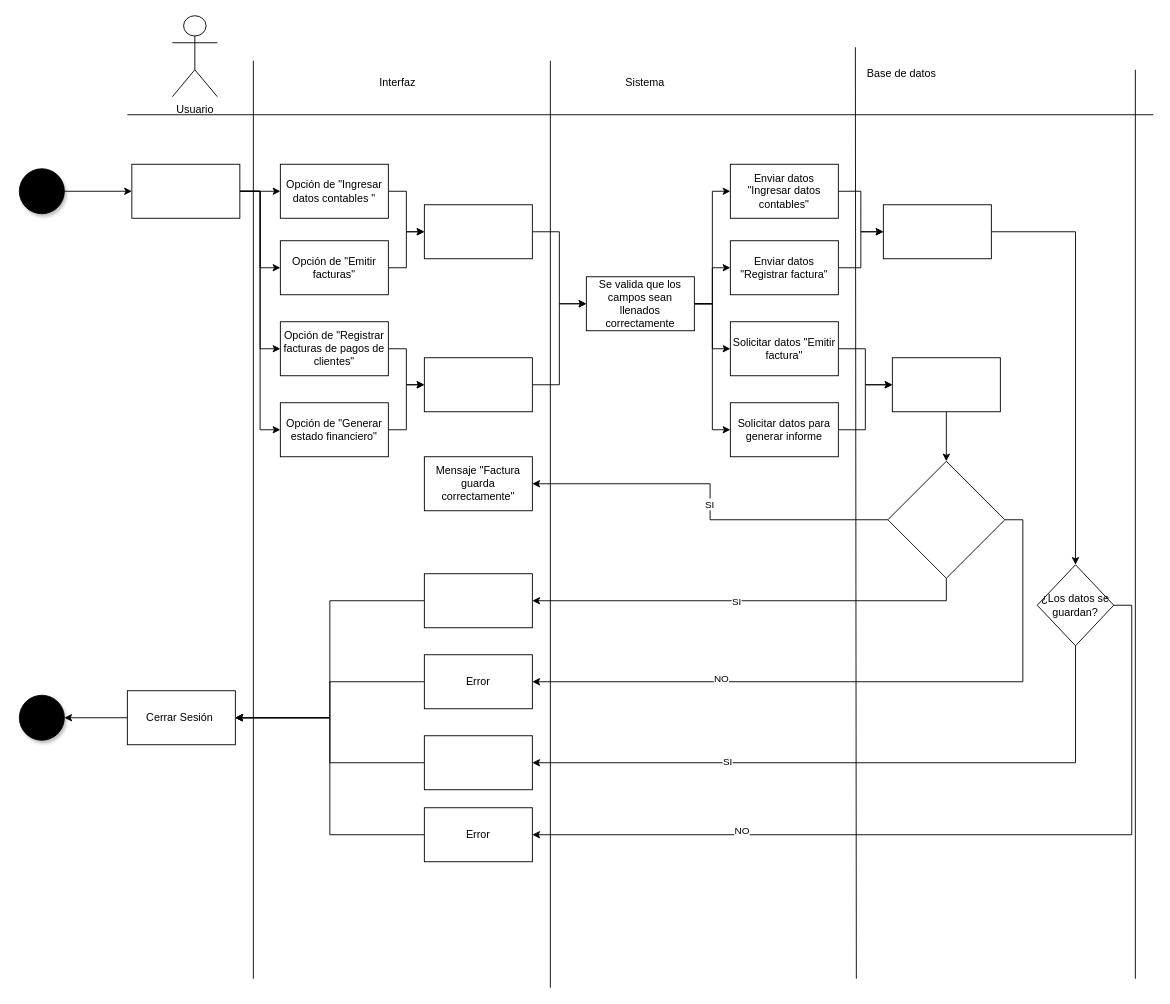
The diagram is 1170 pixels wide and 1004 high, and some of its shapes have lost their labels. The centre of each missing label's shape, as x and y in pixels:
Envía datos solicitados: the point at 945,384
Guardar datos: the point at 936,231
Iniciar sesión: the point at 185,190
Llenar formulario de datos(parámetros): the point at 477,384
Mensaje "Factura registrada": the point at 477,762
Se visualiza el estado financiero: the point at 477,600
Seleccionar el tipo de impuesto a aplicar: the point at 477,231
¿Los datos se envían correctamente?: the point at 946,519
